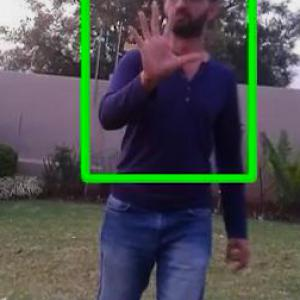follow_hand: (122, 0, 210, 85)
